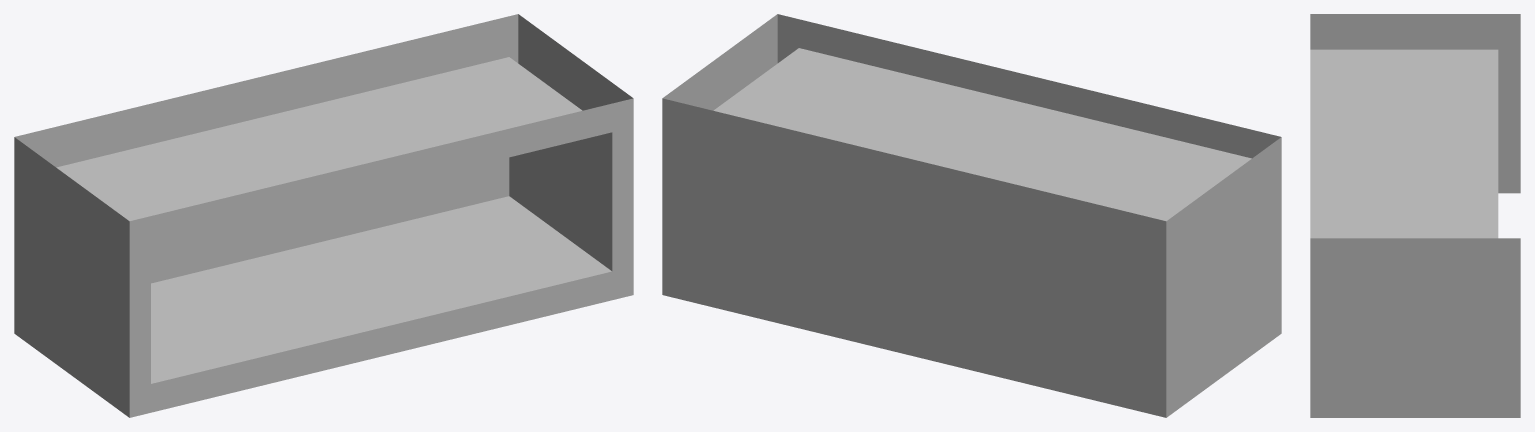
Rendered from Itr_Wardrobe1_Body_06.FBX.
The picture shows the model from 3 angles, left to right: view 1: azimuth 30°, elevation 25°; view 2: azimuth 150°, elevation 25°; view 3: azimuth 270°, elevation 25°; orthographic projection. The views are drawn at different scales.
Visible parts, largest first — view 1: Itr_Wardrobe1_Body_06; view 2: Itr_Wardrobe1_Body_06; view 3: Itr_Wardrobe1_Body_06.
Boxes of the visible parts, x1,y1,x2,y2 form: Itr_Wardrobe1_Body_06: (14, 14, 633, 417); Itr_Wardrobe1_Body_06: (662, 14, 1281, 417); Itr_Wardrobe1_Body_06: (1310, 14, 1520, 417).
Bounding box in the file's own units: 44.53 × 16.61 × 17.63.
